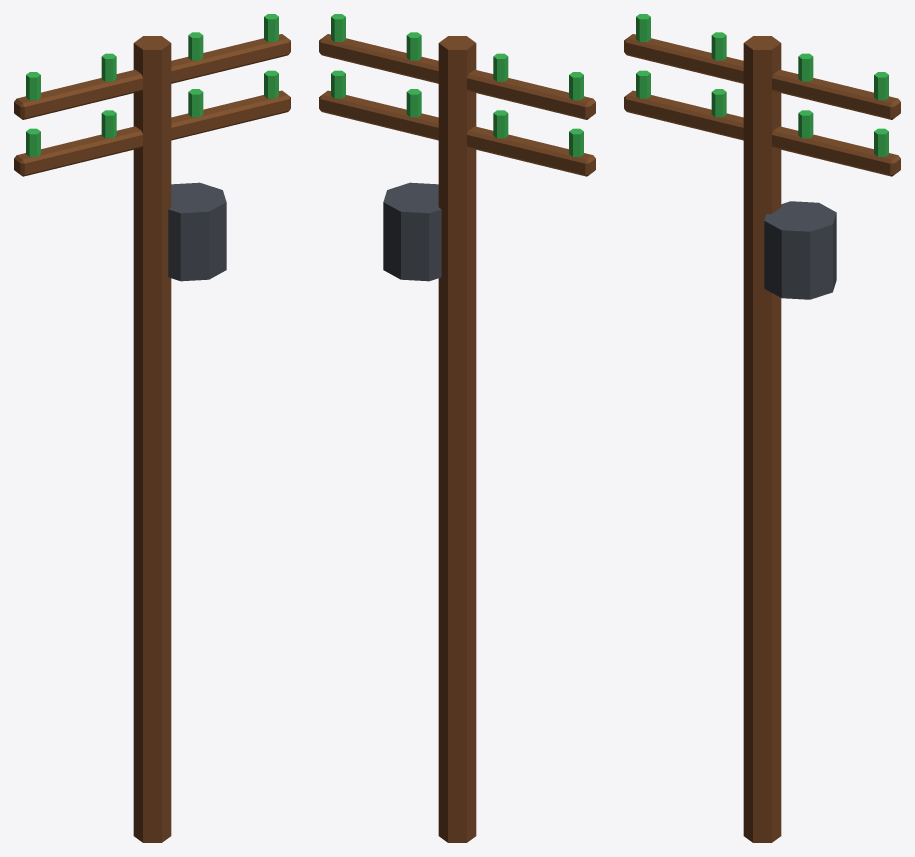
The model's file is PowerPole.fbx.
3 renders of one model, left to right at view 1: azimuth 30°, elevation 25°; view 2: azimuth 150°, elevation 25°; view 3: azimuth 330°, elevation 25°, orthographic.
Visible parts, largest first — view 1: PowerPole; view 2: PowerPole; view 3: PowerPole.
Part boxes in pixels (x1,y1,x2,y2): PowerPole: [14, 14, 290, 842]; PowerPole: [319, 14, 595, 842]; PowerPole: [624, 14, 900, 842].
Bounding box in the file's own units: 5 × 14 × 1.2.
1 material, 1 textured.
